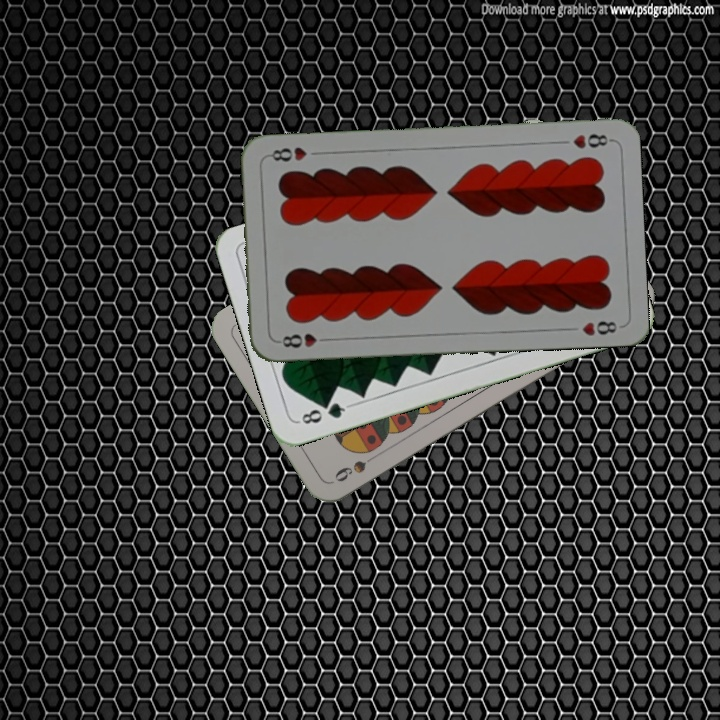G8: (294, 398, 352, 427)
H8: (274, 329, 333, 350), (569, 130, 614, 152)
S9: (330, 449, 384, 485)
